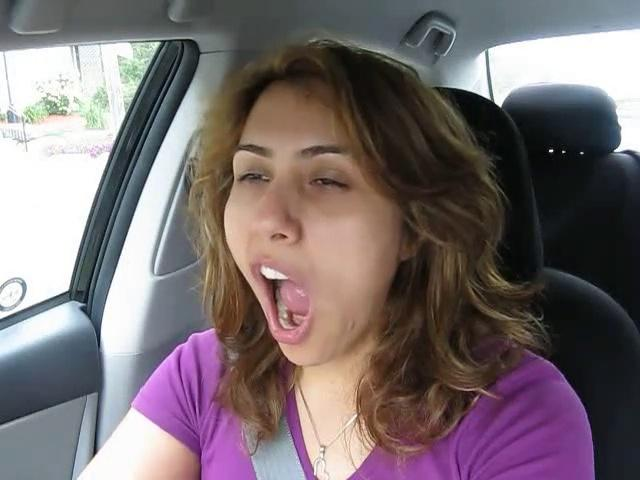close_eyeL: (222, 157, 283, 198)
close_eyeR: (291, 161, 367, 205)
yawn: (241, 255, 329, 344)
